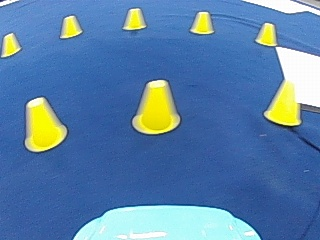cone: (132, 79, 180, 134), (22, 95, 66, 151), (263, 77, 301, 124), (189, 11, 214, 34), (122, 7, 146, 30), (59, 14, 82, 38), (255, 22, 277, 45), (1, 32, 20, 56)
